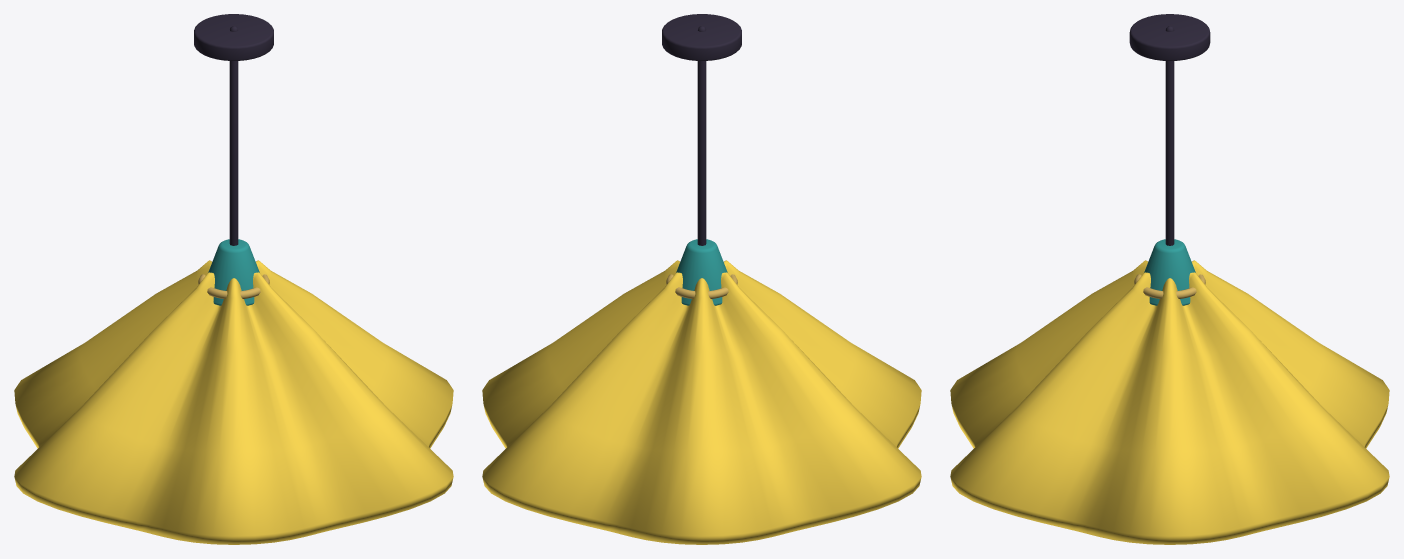
Rendered from pendant_yellow.glb.
The picture shows the model from 3 angles, left to right: view 1: azimuth 30°, elevation 25°; view 2: azimuth 150°, elevation 25°; view 3: azimuth 270°, elevation 25°; orthographic projection.
Parts seen in each view (by area): view 1: Six_lobe_enamel_shade, Ceiling_rose, Teal_top_cap, Adjustable_textile_cable; view 2: Six_lobe_enamel_shade, Ceiling_rose, Teal_top_cap, Adjustable_textile_cable; view 3: Six_lobe_enamel_shade, Ceiling_rose, Teal_top_cap, Adjustable_textile_cable.
Part boxes in pixels (x1,y1,x2,y2): Six_lobe_enamel_shade: (14, 260, 453, 544); Ceiling_rose: (194, 14, 273, 60); Teal_top_cap: (208, 239, 259, 305); Adjustable_textile_cable: (229, 26, 238, 245); Six_lobe_enamel_shade: (482, 260, 921, 544); Ceiling_rose: (662, 14, 741, 60); Teal_top_cap: (676, 239, 727, 305); Adjustable_textile_cable: (697, 26, 706, 245); Six_lobe_enamel_shade: (950, 260, 1389, 544); Ceiling_rose: (1129, 14, 1210, 60); Teal_top_cap: (1144, 239, 1195, 305); Adjustable_textile_cable: (1165, 26, 1174, 245).
Size of the model in its own units: 0.672 by 0.655 by 0.6003.
